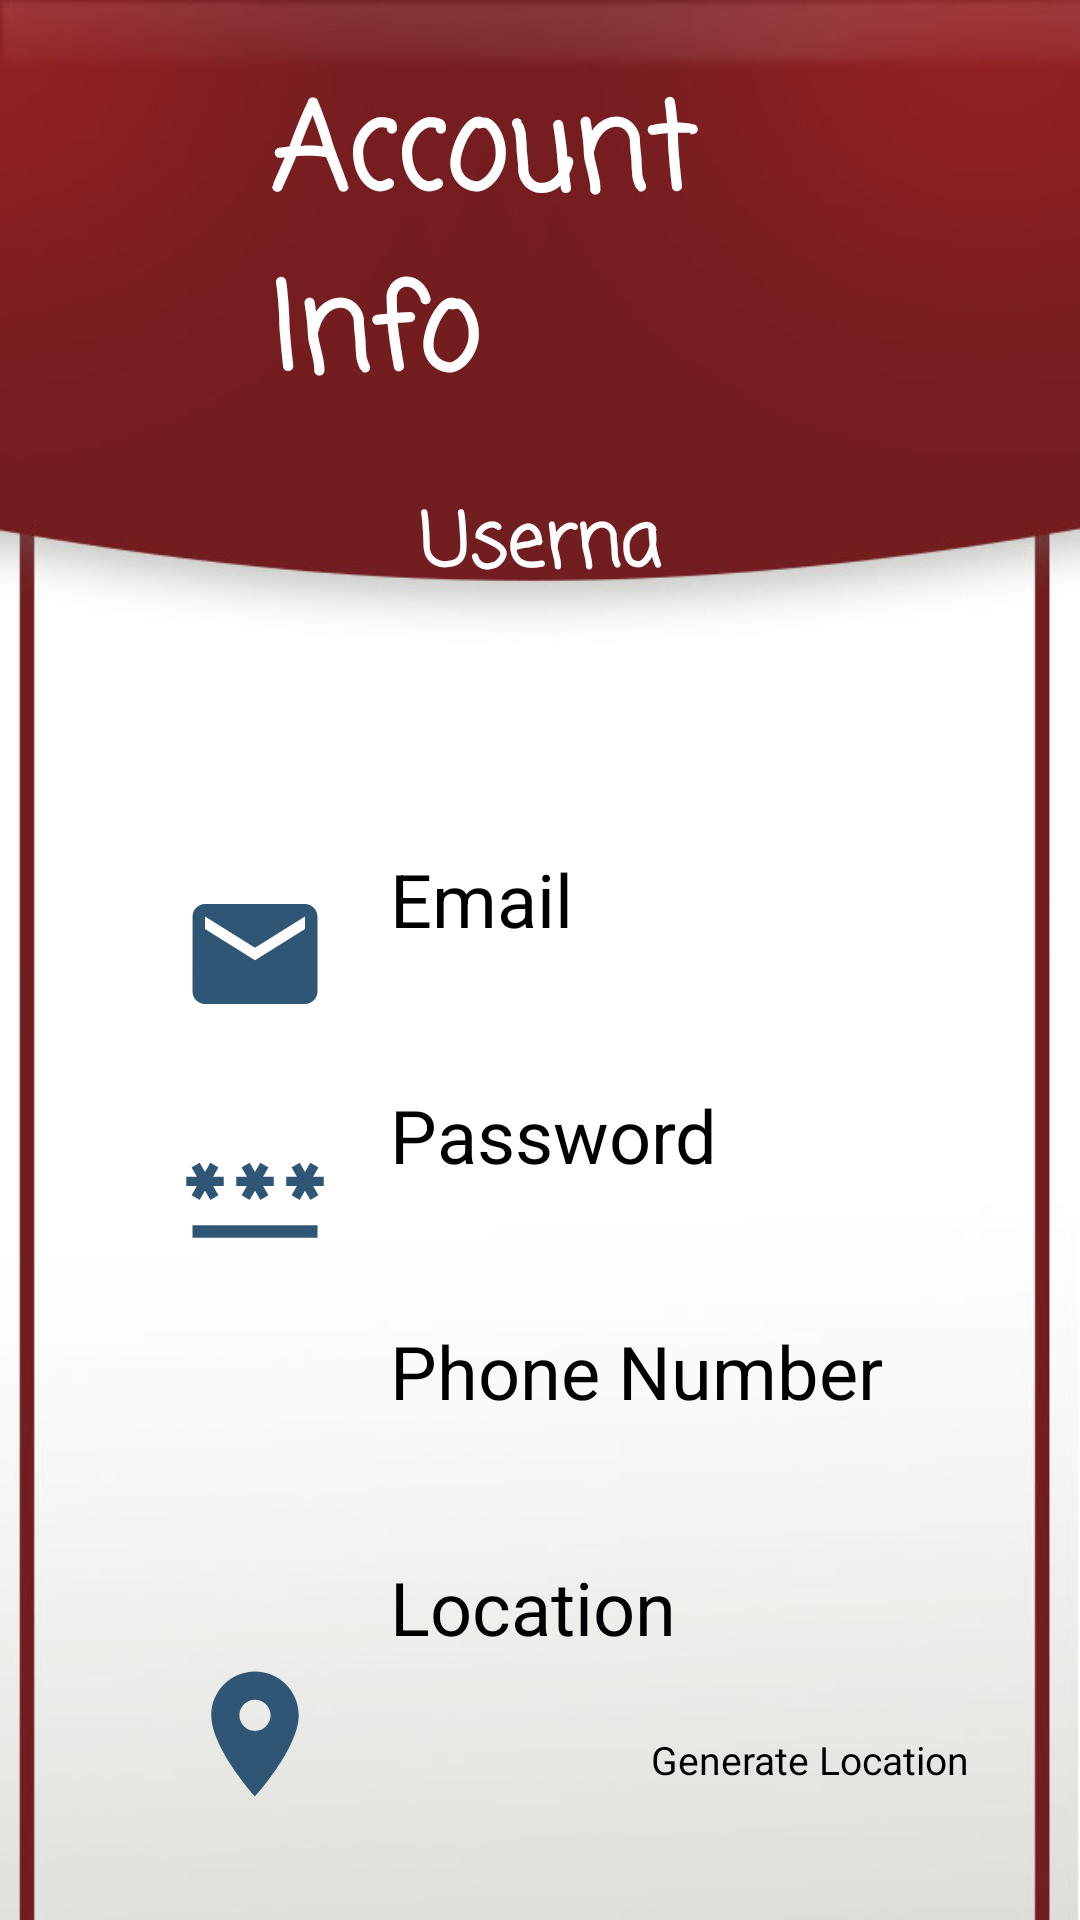

Where icons sit on this 1080x1920 app screen, as (x1, y1, x2, y2):
place: (211, 1671, 299, 1797)
